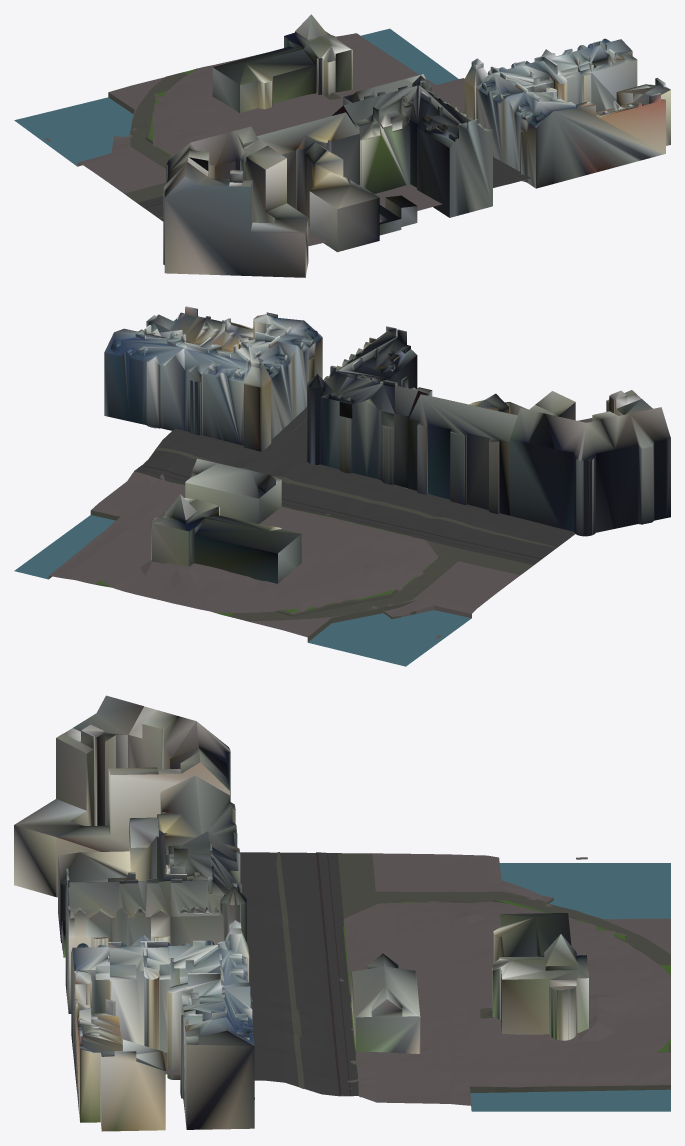
3 renders of one model, top to bottom at view 1: azimuth 30°, elevation 25°; view 2: azimuth 150°, elevation 25°; view 3: azimuth 270°, elevation 25°, orthographic. The views are drawn at different scales.
Visible parts, largest first — view 1: c_p05_p00; view 2: c_p05_p00; view 3: c_p05_p00.
Part boxes in pixels (bbox=[...]): c_p05_p00: bbox=[14, 14, 670, 277]; c_p05_p00: bbox=[14, 306, 670, 666]; c_p05_p00: bbox=[14, 695, 670, 1131].
Bounding box in the file's own units: 170 × 34.42 × 143.
